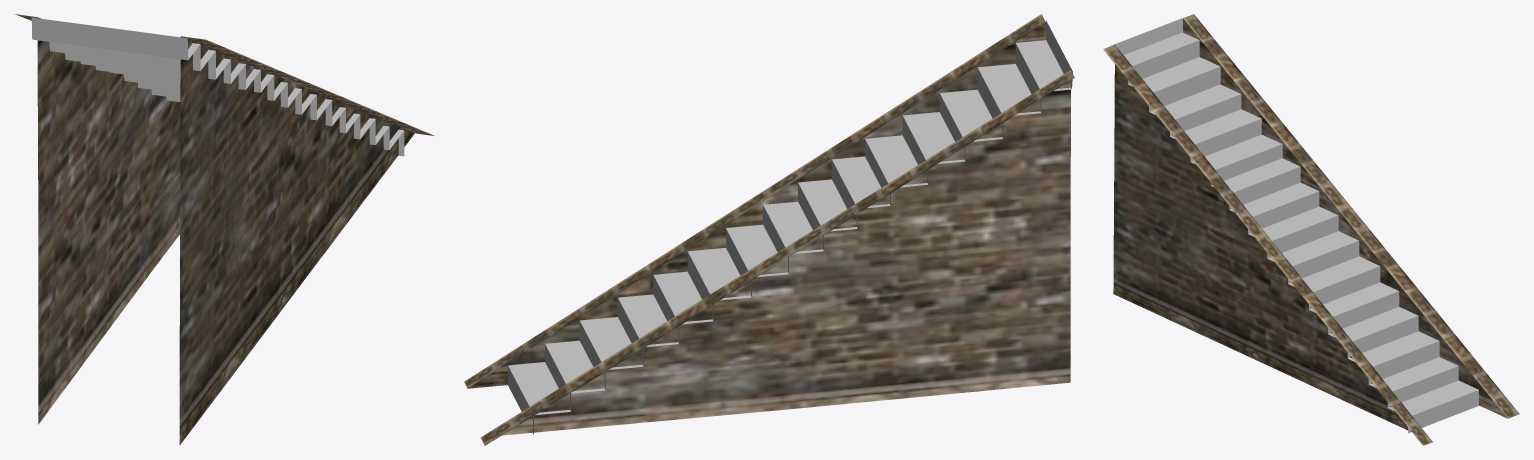
Rendered from tizi07.obj.
The picture shows the model from 3 angles, left to right: view 1: azimuth 30°, elevation 25°; view 2: azimuth 150°, elevation 25°; view 3: azimuth 270°, elevation 25°; orthographic projection. The views are drawn at different scales.
Parts seen in each view (by area): view 1: tizi07; view 2: tizi07; view 3: tizi07.
Part boxes in pixels (<box>): tizi07: <box>15,14,434,445</box>; tizi07: <box>464,14,1074,445</box>; tizi07: <box>1103,14,1519,445</box>.
Size of the model in its own units: 156 by 100 by 151.
